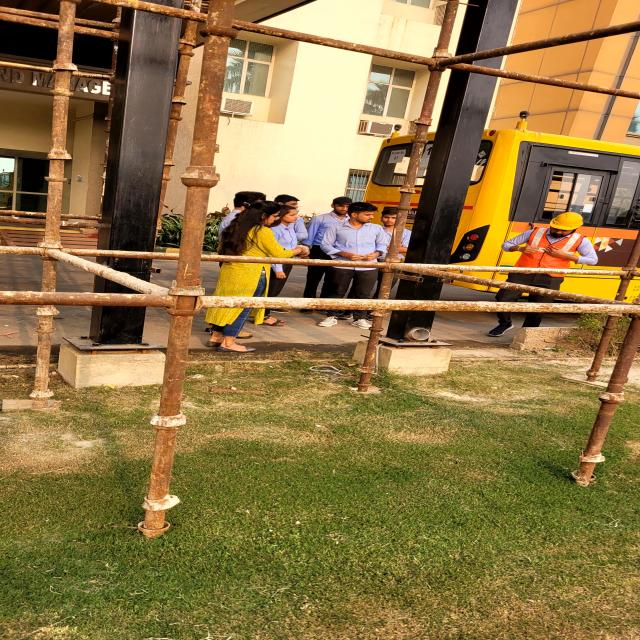safe: (495, 208, 589, 340)
unsafe: (209, 202, 282, 354), (322, 203, 385, 328), (266, 208, 300, 328)
